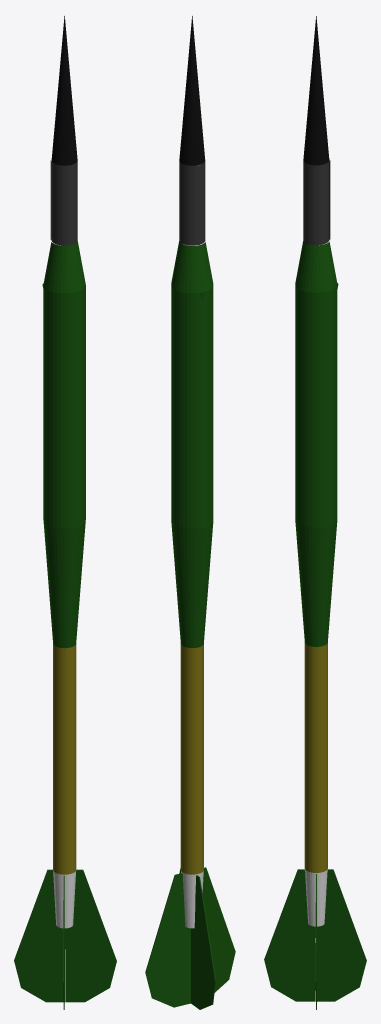
Rendered from dart.fbx.
3 views of the same model, side by side, from view 1: azimuth 90°, elevation 25°; view 2: azimuth 210°, elevation 25°; view 3: azimuth 270°, elevation 25° (orthographic).
Visible parts, largest first — view 1: Plane.003; view 2: Plane.003; view 3: Plane.003.
Part boxes in pixels (bbox=[...]): Plane.003: bbox=[14, 16, 116, 1009]; Plane.003: bbox=[145, 16, 235, 1009]; Plane.003: bbox=[264, 16, 366, 1009].
Size of the model in its own units: 46.05 by 489 by 46.11.
